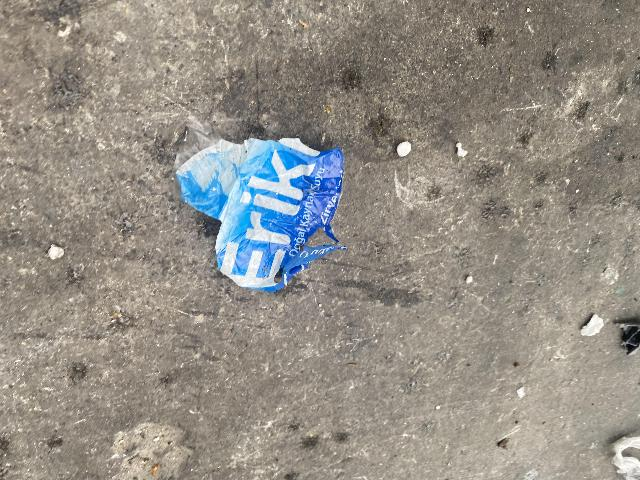Plastik: (167, 106, 370, 297), (614, 305, 640, 373)
